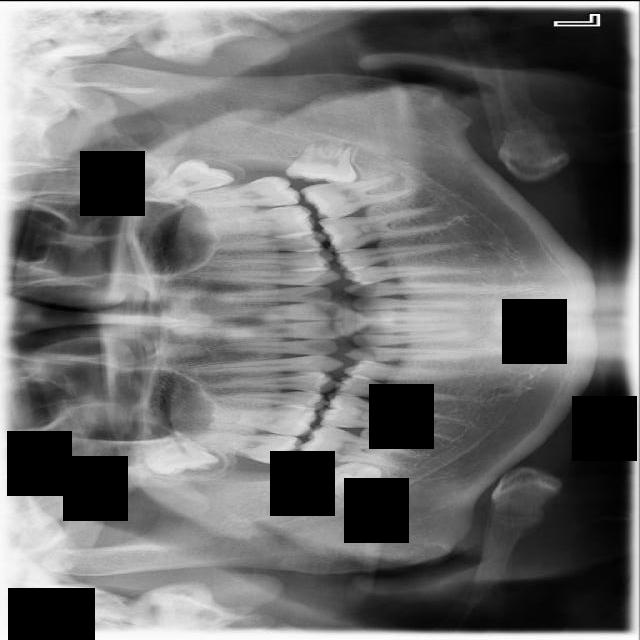3M ESPE Implant: (123, 413, 224, 495)
73: (608, 14, 614, 22)
BioHorizons Implant: (169, 174, 302, 210)
BioLife Implant: (129, 148, 237, 208)
Biomet 3i Implant: (284, 134, 362, 191)
Blue Sky Bio Implant: (299, 171, 419, 223)
Caries: (179, 426, 303, 466)
Implant: (295, 421, 412, 470)
Keystone Dental Implant: (311, 455, 386, 508)
